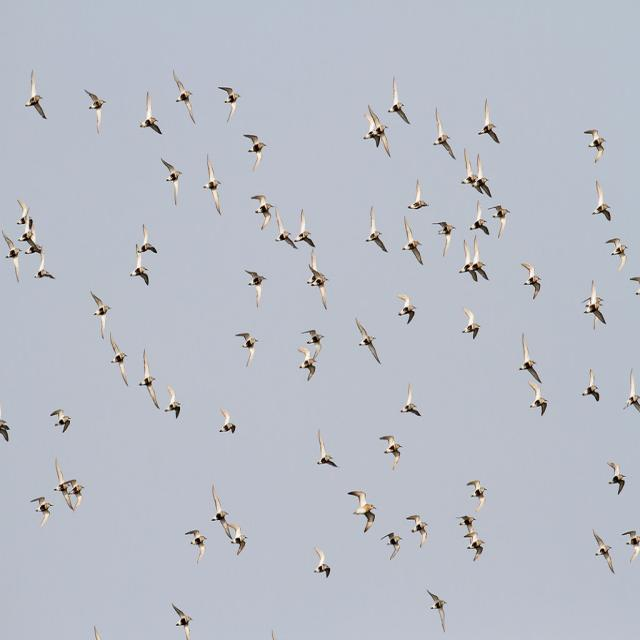bird: (346, 487, 379, 536), (198, 155, 224, 215), (137, 350, 161, 410), (138, 87, 166, 136), (24, 68, 49, 122), (354, 317, 382, 364), (432, 111, 458, 161), (398, 219, 425, 267), (364, 108, 392, 154), (174, 69, 198, 121), (584, 280, 610, 328), (2, 232, 26, 284), (364, 203, 388, 254), (519, 335, 543, 386), (160, 160, 186, 206), (312, 426, 340, 468), (206, 482, 234, 524), (88, 290, 113, 337), (110, 335, 132, 387), (590, 178, 616, 221), (84, 86, 108, 132), (234, 330, 262, 368), (307, 267, 332, 309), (54, 457, 72, 515), (128, 245, 152, 288), (424, 591, 450, 630), (478, 103, 502, 145), (474, 153, 496, 198), (182, 528, 208, 566), (273, 209, 297, 250), (397, 381, 422, 420), (526, 380, 551, 419), (594, 530, 616, 574), (244, 268, 269, 306), (459, 148, 479, 195), (135, 222, 161, 258), (622, 367, 640, 419), (243, 135, 268, 171), (218, 85, 242, 122), (295, 205, 315, 249), (171, 600, 195, 636), (469, 202, 490, 243), (434, 217, 456, 255), (604, 238, 630, 270), (251, 194, 274, 230), (520, 262, 543, 298), (390, 87, 410, 128), (406, 514, 430, 548), (310, 546, 332, 583), (296, 348, 319, 383), (29, 496, 54, 528), (458, 237, 475, 284), (581, 368, 602, 405), (586, 134, 610, 166), (379, 438, 404, 468), (459, 308, 481, 342), (465, 479, 488, 511), (409, 178, 430, 213), (490, 202, 510, 238), (216, 407, 238, 439), (228, 524, 250, 556), (163, 384, 183, 418), (381, 530, 403, 560), (69, 475, 86, 513), (606, 463, 626, 494), (463, 537, 486, 563), (14, 197, 35, 225), (49, 408, 72, 433), (395, 298, 417, 324), (34, 258, 56, 283), (624, 528, 640, 558), (302, 326, 325, 346), (456, 513, 479, 533), (0, 415, 10, 442)
